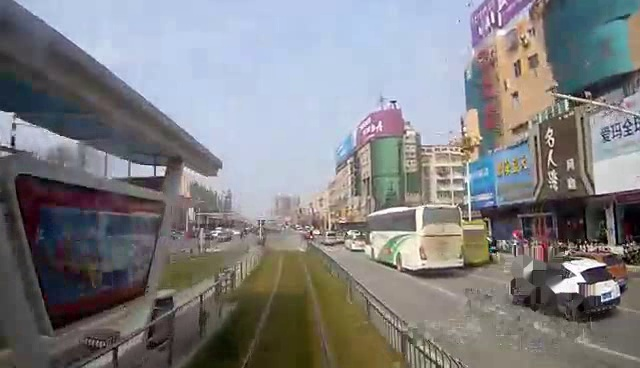bus: (362, 204, 466, 275)
car: (505, 256, 624, 317)
